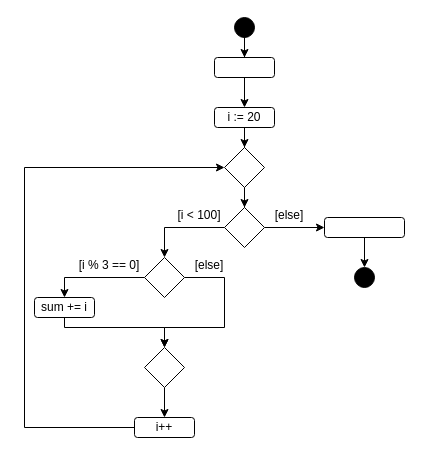
This 422x455 diagram has some shape labels left out. The centre of each missing label's shape, as x and y in pixels:
"sum := 0" goes at point (244, 67).
"вывод: sum" goes at point (364, 227).
